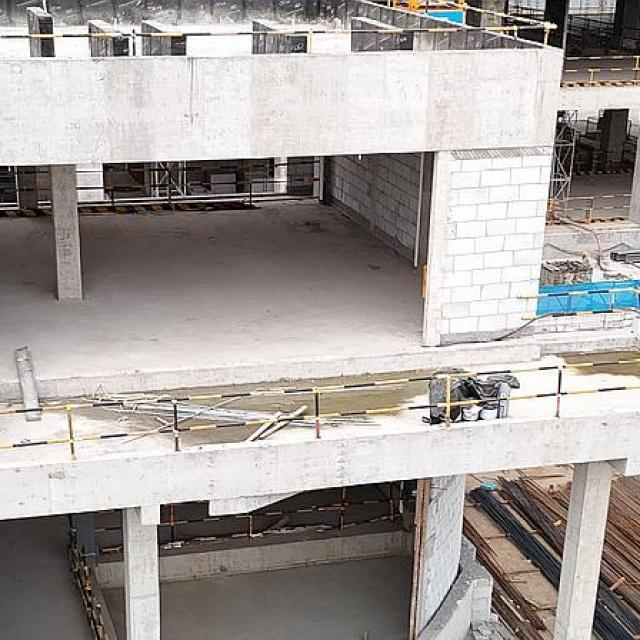edge_guardrail: (3, 359, 640, 460), (2, 0, 558, 56), (159, 482, 414, 544), (75, 159, 322, 208), (517, 286, 640, 321), (65, 544, 105, 640), (547, 194, 632, 224), (560, 56, 640, 86), (0, 169, 53, 210), (568, 15, 640, 40), (92, 525, 124, 554)
